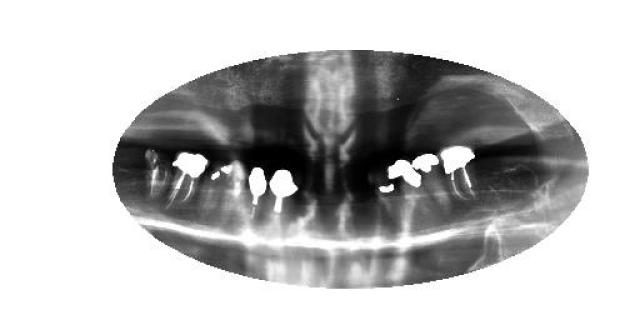Fillings: (388, 159, 437, 221), (411, 155, 450, 214)
Implant: (165, 148, 209, 214), (440, 145, 479, 201), (269, 168, 299, 224), (248, 166, 266, 222)
